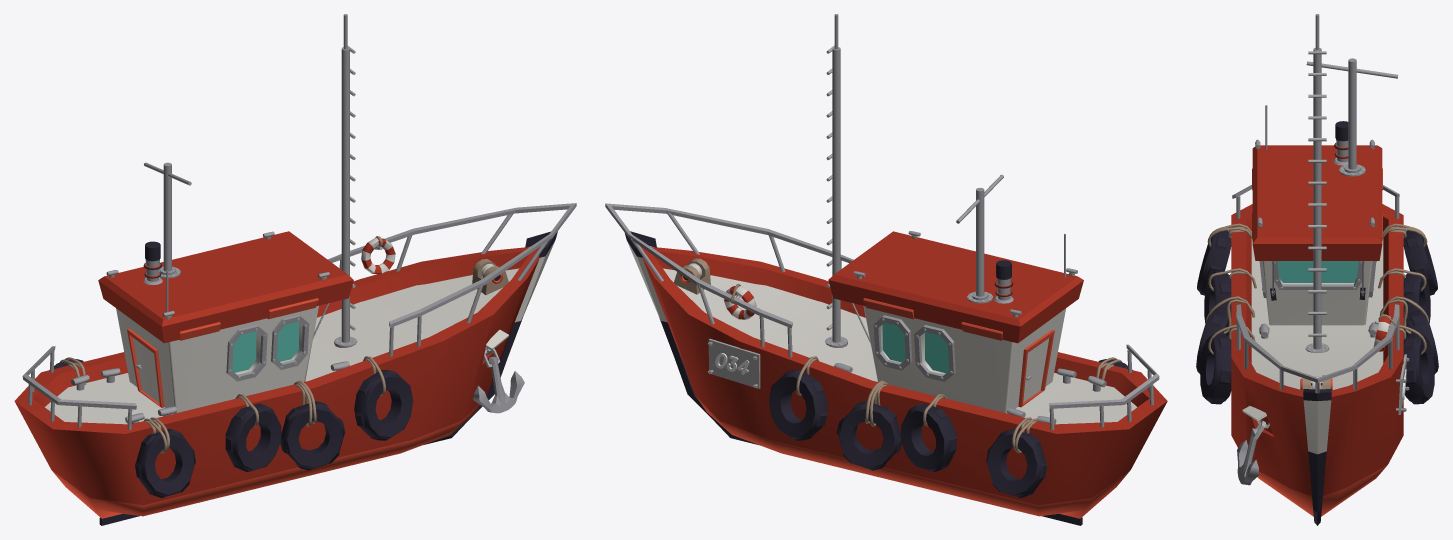
The model's file is Ship.fbx.
3 renders of one model, left to right at view 1: azimuth 30°, elevation 25°; view 2: azimuth 150°, elevation 25°; view 3: azimuth 270°, elevation 25°, orthographic. The views are drawn at different scales.
Parts seen in each view (by area): view 1: Ship; view 2: Ship; view 3: Ship.
Boxes of the visible parts, x1,y1,x2,y2 form: Ship: (14,14,576,525); Ship: (605,14,1167,525); Ship: (1196,14,1438,525).
Bounding box in the file's own units: 13.88 × 11.01 × 5.27.
